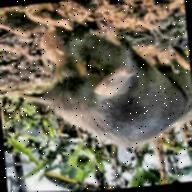boar: (26, 18, 192, 148)
